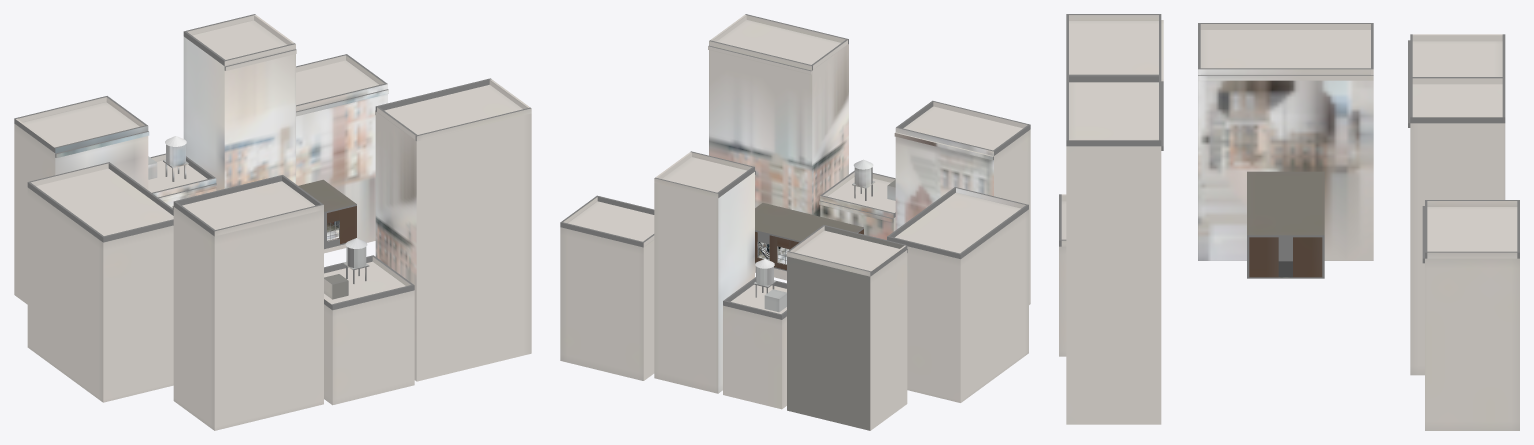
The model's file is level_4k.glb.
The picture shows the model from 3 angles, left to right: view 1: azimuth 30°, elevation 25°; view 2: azimuth 150°, elevation 25°; view 3: azimuth 270°, elevation 25°; orthographic projection. The views are drawn at different scales.
Parts seen in each view (by area): view 1: loft; view 2: loft; view 3: loft.
Boxes of the visible parts, left/top/right/bottom form: loft: left=14, top=14, right=531, bottom=430; loft: left=560, top=14, right=1030, bottom=430; loft: left=1059, top=14, right=1519, bottom=430.
Bounding box in the file's own units: 70 × 42.9 × 63.
1 material, 1 textured.
